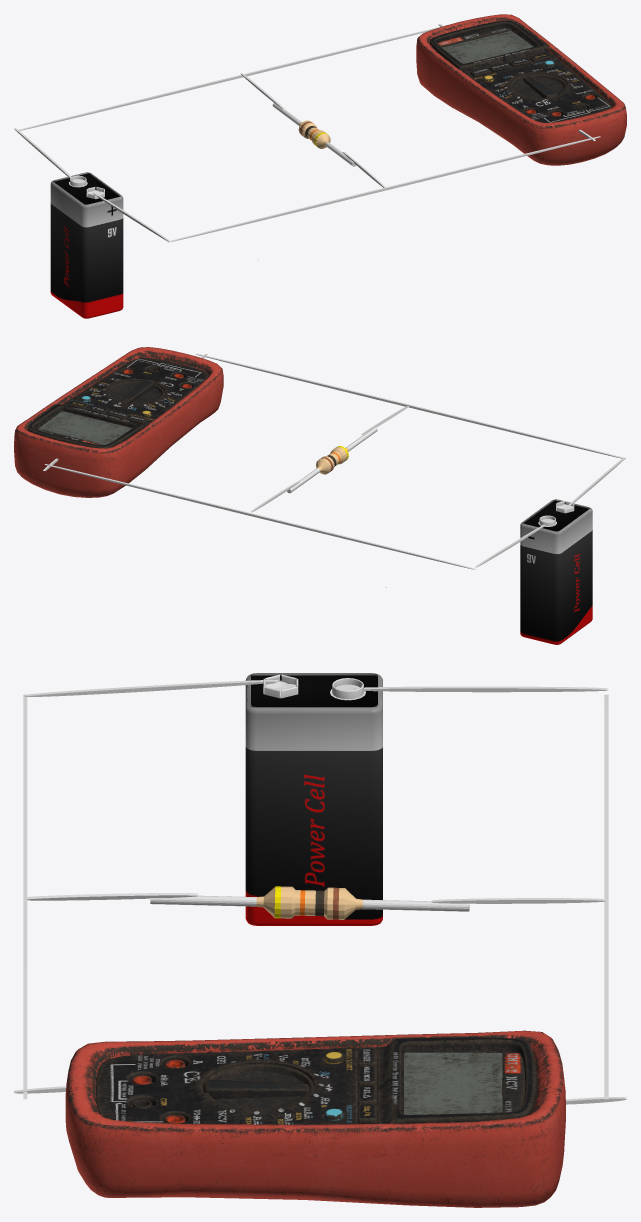
The model's file is Circuit 1_blender.glb.
3 views of the same model, one above another, from view 1: azimuth 30°, elevation 25°; view 2: azimuth 150°, elevation 25°; view 3: azimuth 270°, elevation 25° (orthographic). The views are drawn at different scales.
Parts seen in each view (by area): view 1: Multimeter_LP, Battery-9V_2.002, Cylinder, Cylinder.001, Resistor; view 2: Multimeter_LP, Battery-9V_2.002, Cylinder, Cylinder.001, Resistor; view 3: Multimeter_LP, Battery-9V_2.002, Resistor, Cylinder.001, Cylinder, Cylinder.005, Cylinder.006, Cylinder.007, Cylinder.008.
Boxes of the visible parts, left/top/right/bottom form: Multimeter_LP: left=416, top=14, right=626, bottom=165; Battery-9V_2.002: left=50, top=172, right=123, bottom=318; Cylinder: left=167, top=136, right=600, bottom=242; Cylinder.001: left=15, top=26, right=443, bottom=131; Resistor: left=272, top=103, right=356, bottom=166; Multimeter_LP: left=14, top=347, right=223, bottom=497; Battery-9V_2.002: left=520, top=499, right=592, bottom=644; Cylinder: left=195, top=353, right=626, bottom=459; Cylinder.001: left=44, top=464, right=475, bottom=569; Resistor: left=287, top=427, right=377, bottom=493; Multimeter_LP: left=65, top=1030, right=565, bottom=1207; Battery-9V_2.002: left=245, top=673, right=382, bottom=925; Resistor: left=150, top=886, right=469, bottom=919; Cylinder.001: left=604, top=694, right=608, bottom=1099; Cylinder: left=23, top=694, right=27, bottom=1099; Cylinder.005: left=23, top=680, right=278, bottom=696; Cylinder.006: left=353, top=686, right=608, bottom=692; Cylinder.007: left=27, top=893, right=198, bottom=900; Cylinder.008: left=431, top=898, right=606, bottom=903.
Bounding box in the file's own units: 10.59 × 2.53 × 5.76.
17 materials, 2 textured.
